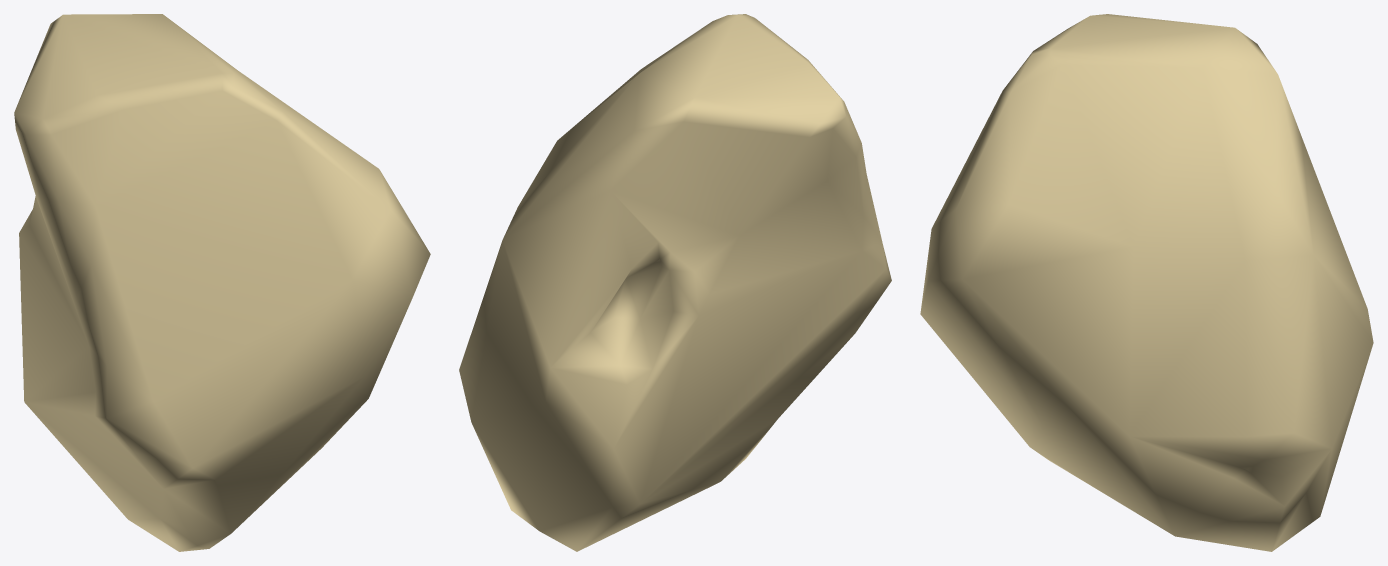
The picture shows the model from 3 angles, left to right: view 1: azimuth 30°, elevation 25°; view 2: azimuth 150°, elevation 25°; view 3: azimuth 270°, elevation 25°; orthographic projection. The views are drawn at different scales.
Visible parts, largest first — view 1: 右侧三角骨; view 2: 右侧三角骨; view 3: 右侧三角骨.
Boxes of the visible parts, <box> form: 右侧三角骨: <box>14,14,430,551</box>; 右侧三角骨: <box>459,14,891,551</box>; 右侧三角骨: <box>920,14,1373,551</box>.
Bounding box in the file's own units: 0.0164 × 0.0235 × 0.021.
